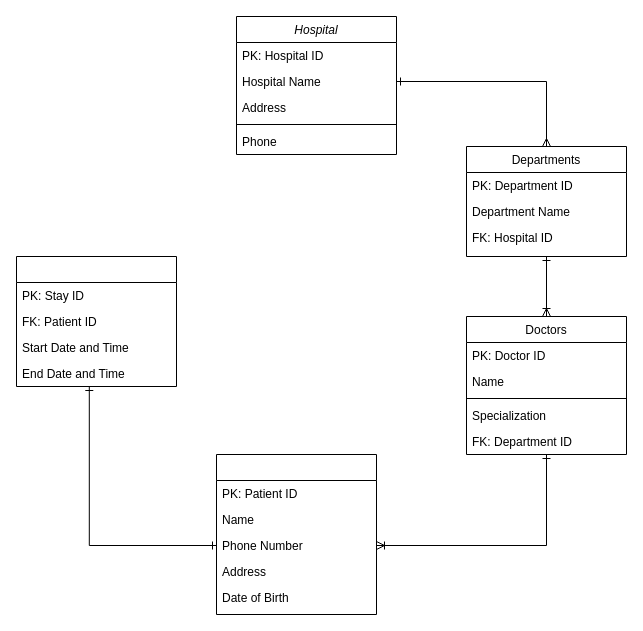
This 643x631 diagram has some shape labels left out. The box of each missing label's shape, as (x1, y1, x2, y2) in pixels:
Patient Stay: (16, 256, 176, 386)
Patients: (216, 454, 376, 614)
